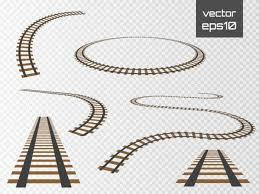track: (17, 10, 84, 78), (15, 116, 73, 188), (26, 90, 105, 136), (178, 149, 248, 185)
